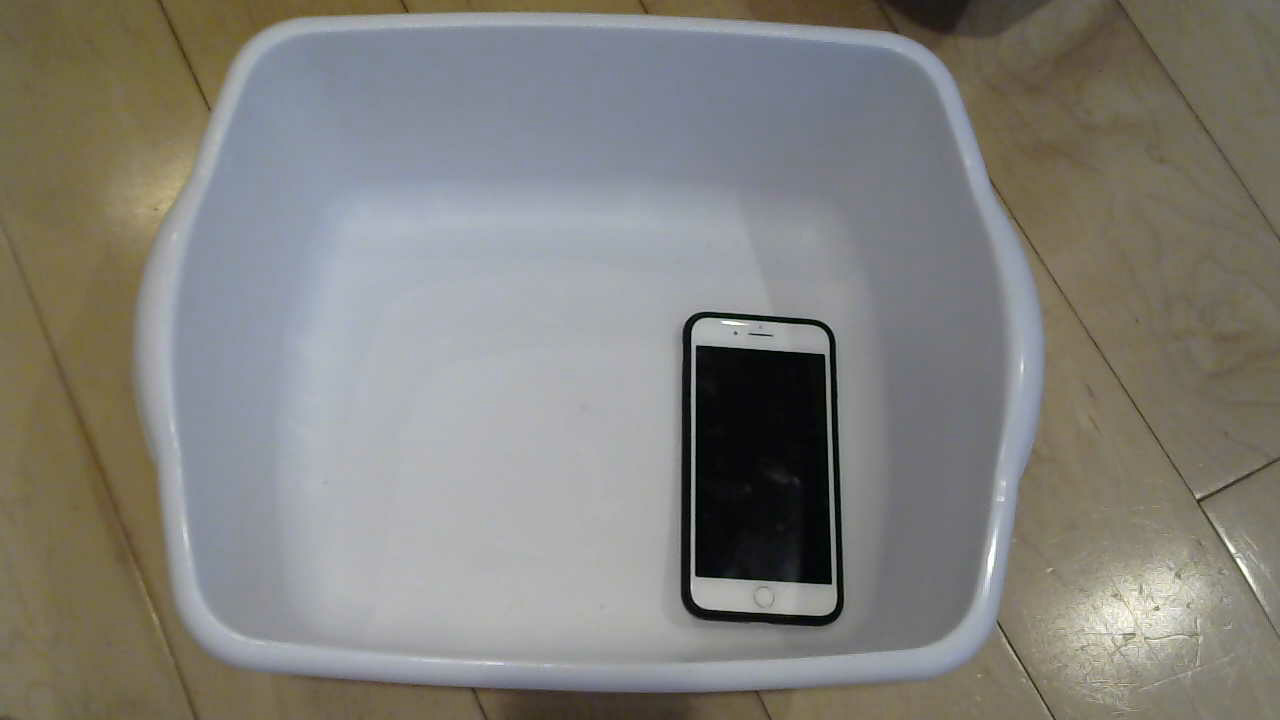phone: (650, 309, 857, 642)
